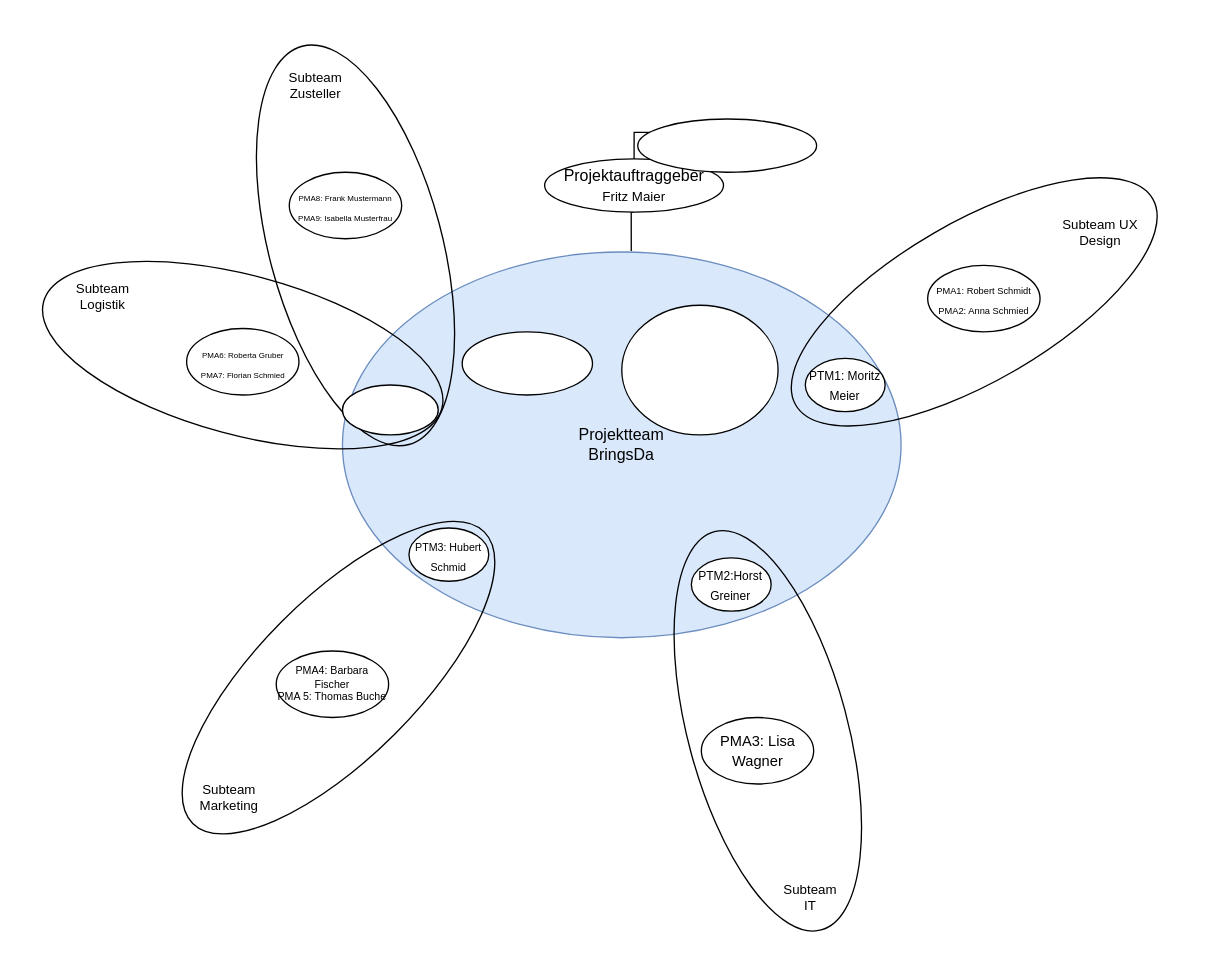
This 1217x975 diagram has some shape labels left out. Each missing label, with the centre of its shape:
Projektmanager: Marko Capulovic: pixel 527 363
Projektsponsor: pixel 726 145
Projektteam Kerstin Kiefer Philipp Maurer Dominique Prinz Shengyul Mustafova: pixel 699 369
PTM4: Moritz J.: pixel 389 409
